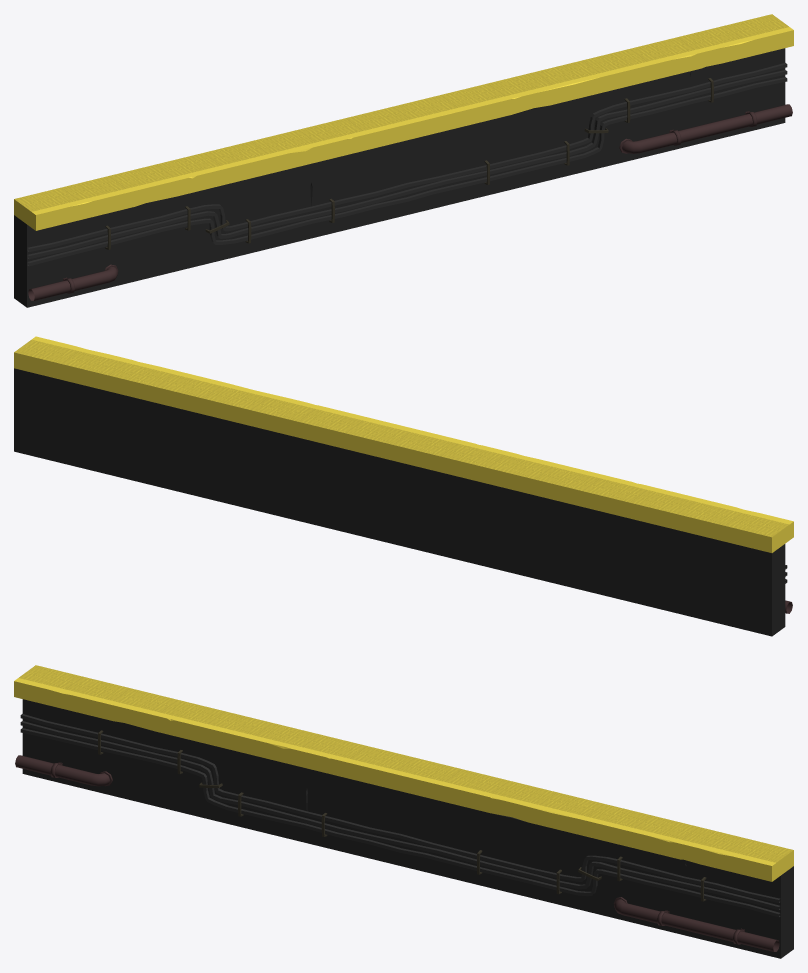
Rendered from SW_ENV_PlatformEdge_B_10m_FF.fbx.
The picture shows the model from 3 angles, top to bottom: view 1: azimuth 30°, elevation 25°; view 2: azimuth 150°, elevation 25°; view 3: azimuth 330°, elevation 25°; orthographic projection.
Visible parts, largest first — view 1: SW_ENV_PlatformEdge_B_10m_FF; view 2: SW_ENV_PlatformEdge_B_10m_FF; view 3: SW_ENV_PlatformEdge_B_10m_FF.
Part boxes in pixels (bbox=[...]): SW_ENV_PlatformEdge_B_10m_FF: bbox=[14, 14, 793, 307]; SW_ENV_PlatformEdge_B_10m_FF: bbox=[14, 336, 793, 636]; SW_ENV_PlatformEdge_B_10m_FF: bbox=[14, 665, 793, 958].
Bounding box in the file's own units: 10 × 1.25 × 0.5.
